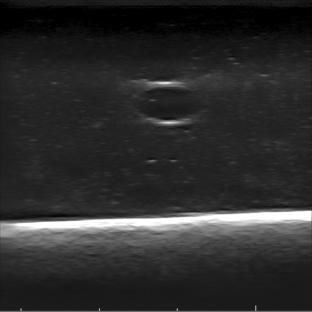vessel: (132, 80, 203, 126)
